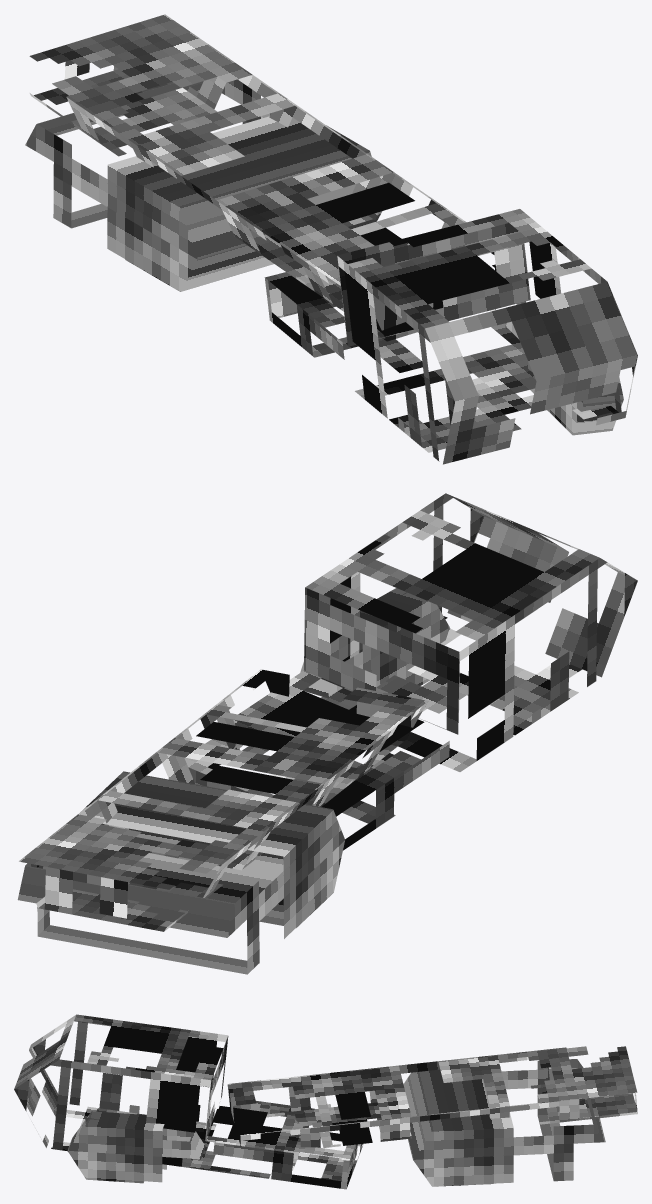
The model's file is cargotruckprop_dam.glb.
The picture shows the model from 3 angles, top to bottom: view 1: azimuth 30°, elevation 25°; view 2: azimuth 150°, elevation 25°; view 3: azimuth 270°, elevation 25°; orthographic projection. The views are drawn at different scales.
Parts seen in each view (by area): view 1: tank02; view 2: tank02; view 3: tank02.
Boxes of the visible parts, x1,y1,x2,y2 form: tank02: (25, 14, 637, 464); tank02: (17, 493, 637, 974); tank02: (14, 1014, 637, 1189).
Size of the model in its own units: 4.52 by 3.21 by 15.2.
1 material, 1 textured.
